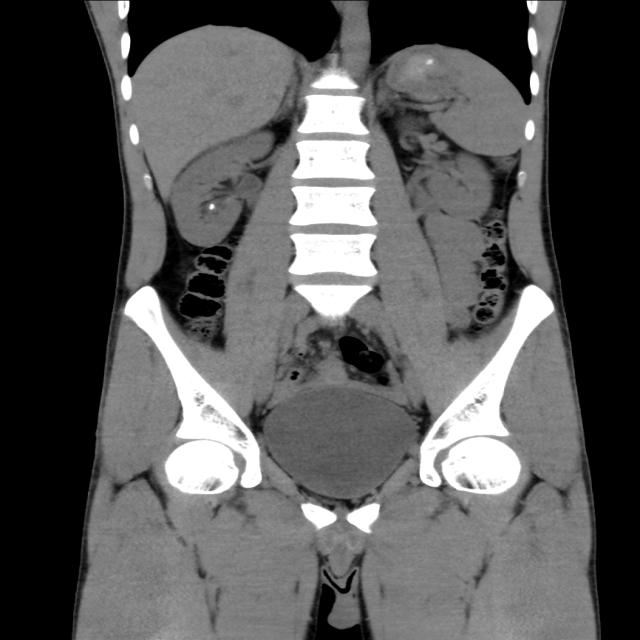kidneystone: (202, 202, 216, 209)
